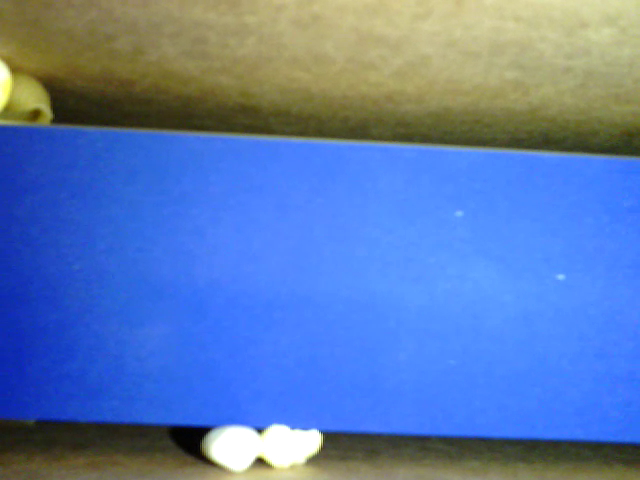shell: (2, 72, 57, 129)
